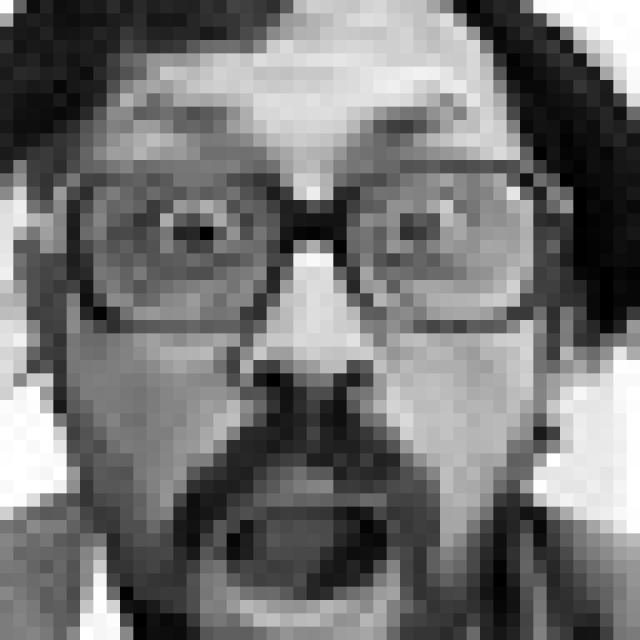surprise: (109, 82, 502, 640)
